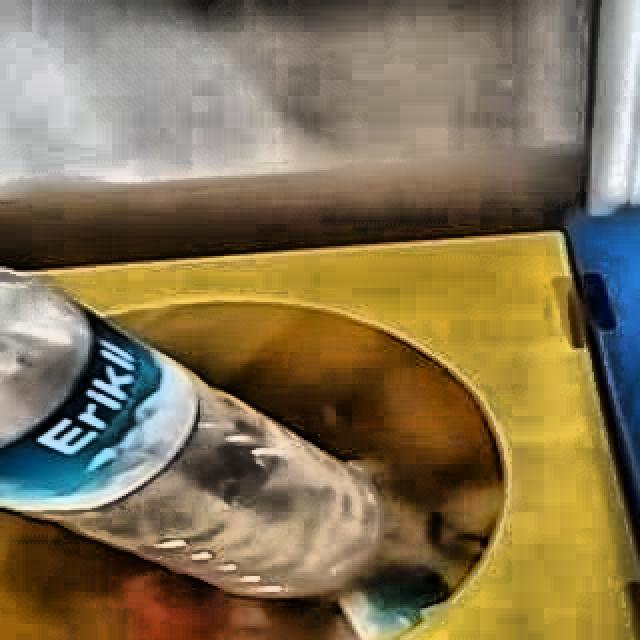plastic: (0, 271, 387, 598)
